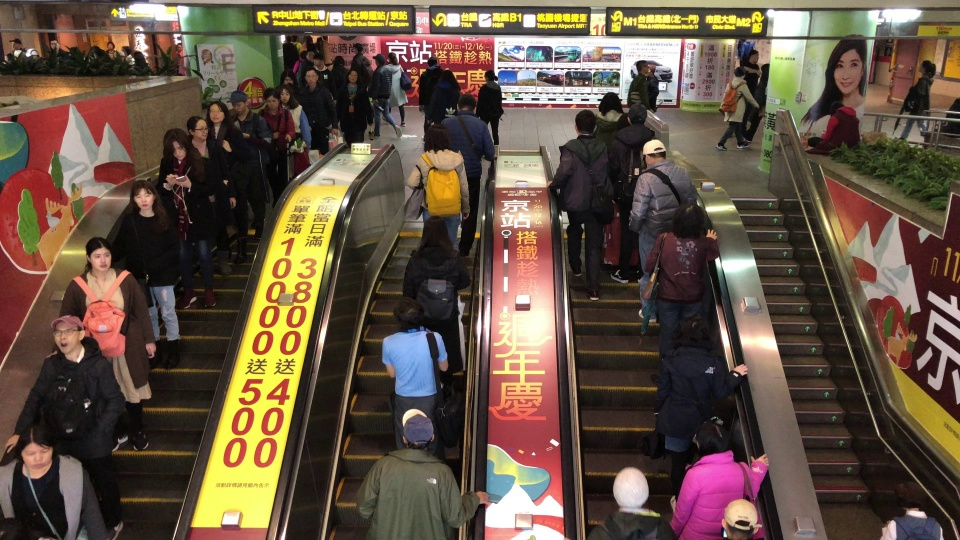person_head: (610, 465, 650, 508), (15, 426, 53, 470), (415, 216, 454, 255), (691, 415, 727, 457), (397, 408, 434, 448), (723, 498, 761, 536), (669, 200, 706, 239), (49, 316, 84, 355), (679, 313, 715, 348), (893, 479, 927, 512), (82, 236, 113, 272), (126, 177, 158, 211), (159, 128, 189, 162), (393, 293, 424, 325), (568, 107, 598, 138), (641, 137, 669, 166), (421, 124, 450, 151), (225, 89, 251, 116), (184, 113, 208, 142), (597, 92, 623, 115), (455, 93, 477, 114), (625, 106, 648, 126), (261, 85, 280, 108), (208, 101, 227, 124), (917, 59, 935, 78), (277, 86, 296, 103), (441, 68, 459, 85), (479, 69, 498, 84), (827, 101, 845, 116), (371, 52, 385, 68), (332, 55, 346, 70), (635, 60, 649, 75), (282, 71, 296, 84), (746, 48, 759, 62), (347, 69, 359, 84), (306, 71, 318, 86), (759, 63, 770, 79), (387, 51, 399, 65), (9, 38, 22, 50), (48, 38, 60, 51), (732, 67, 745, 79), (352, 43, 364, 55), (648, 61, 659, 74), (426, 55, 438, 66), (295, 53, 305, 64), (305, 49, 314, 61), (121, 44, 131, 54), (284, 35, 293, 44), (106, 41, 114, 51), (301, 36, 307, 45), (320, 39, 328, 45)
person_vbox: (0, 314, 125, 540), (57, 235, 165, 452), (656, 312, 748, 513), (357, 407, 489, 540), (645, 199, 720, 402), (101, 178, 190, 346), (622, 137, 695, 323), (398, 215, 471, 400), (1, 425, 118, 540), (671, 415, 771, 540), (378, 293, 452, 459), (553, 106, 614, 303), (439, 92, 496, 256), (159, 127, 210, 308), (184, 113, 229, 307), (407, 124, 471, 252), (609, 105, 654, 282), (206, 99, 252, 264), (225, 87, 273, 233), (588, 465, 662, 540), (258, 85, 295, 204), (881, 478, 945, 540), (892, 59, 938, 142), (369, 48, 404, 142), (801, 101, 861, 155), (303, 69, 339, 152), (716, 67, 751, 152), (276, 86, 313, 151), (475, 68, 503, 148), (419, 54, 443, 143), (384, 50, 409, 129), (746, 64, 770, 146), (344, 69, 370, 143), (719, 497, 763, 540), (594, 91, 628, 144), (742, 49, 760, 137), (437, 67, 462, 122), (349, 42, 373, 95), (628, 61, 654, 107), (331, 58, 346, 131), (645, 62, 664, 117), (313, 56, 331, 92), (281, 34, 297, 73), (316, 37, 334, 68), (293, 55, 311, 84), (119, 40, 134, 62), (104, 40, 120, 59), (298, 34, 311, 55)
